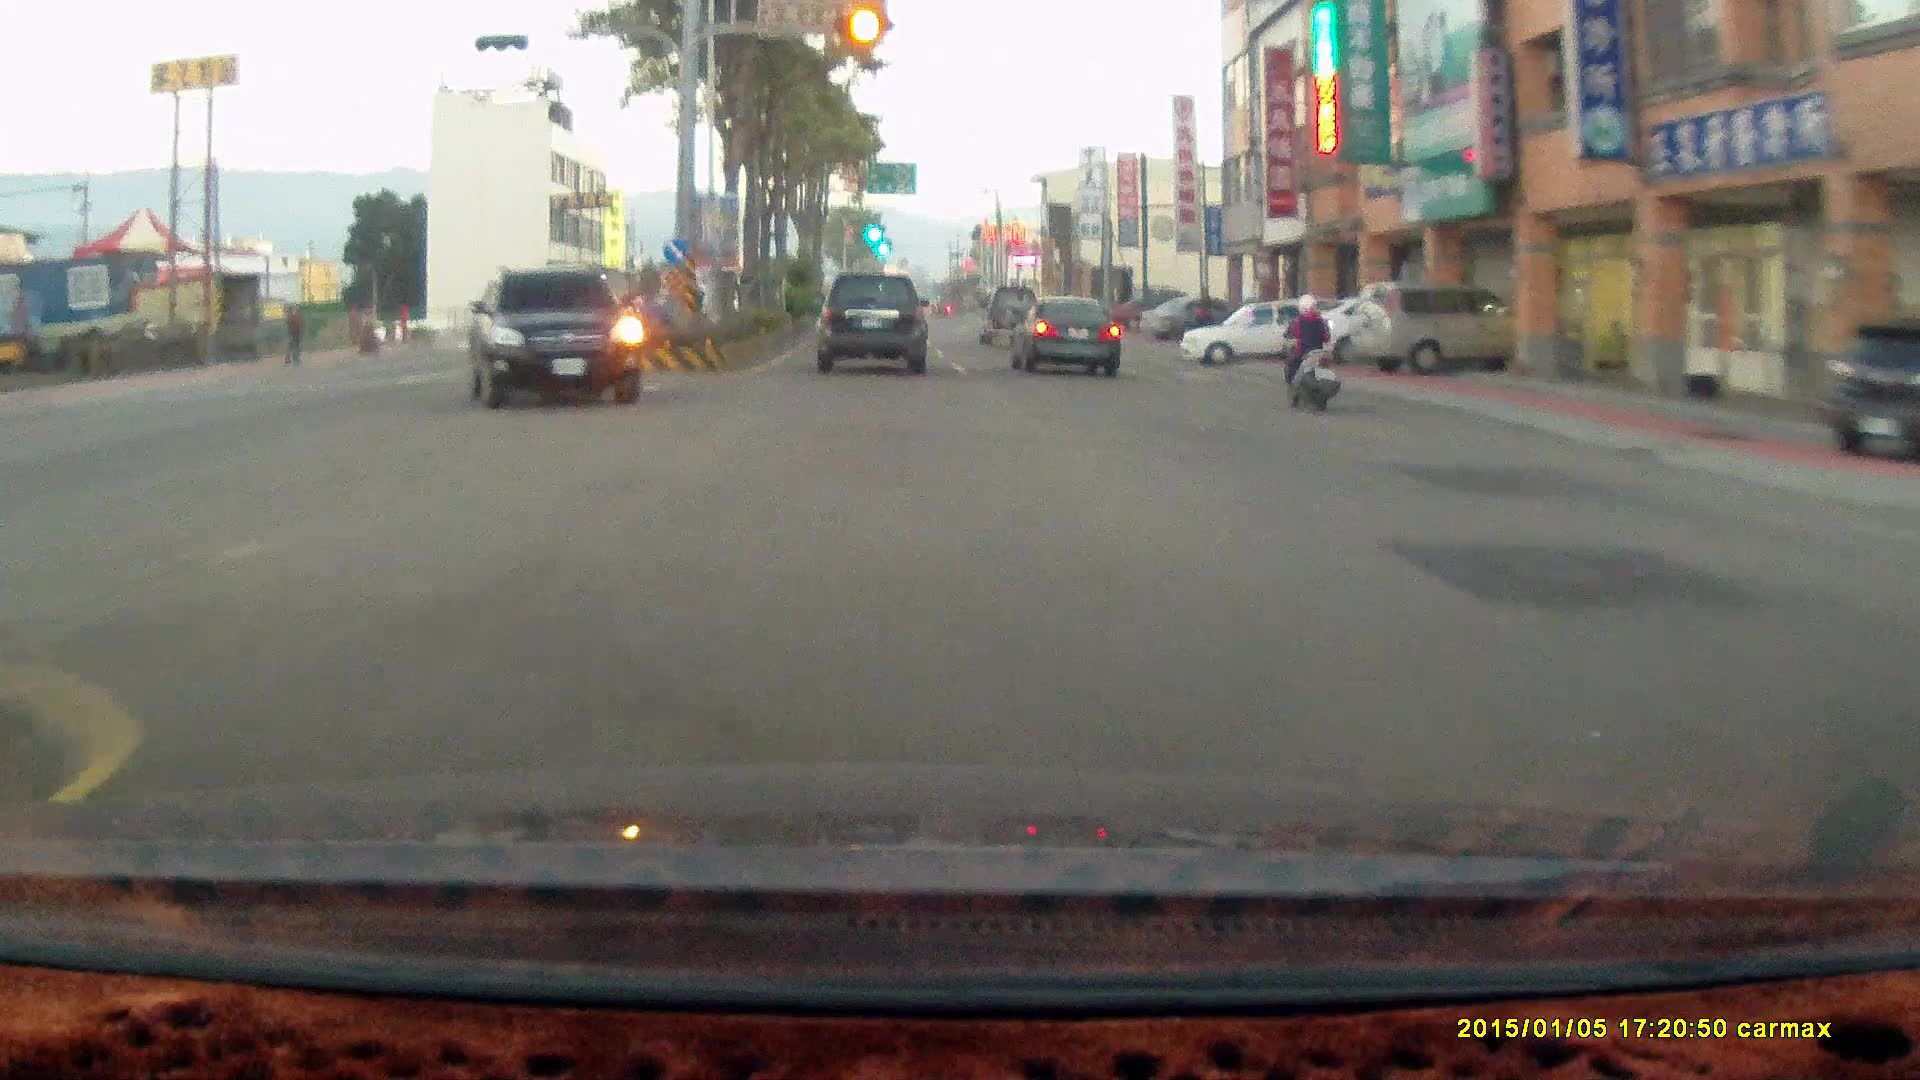pedestrian: (1192, 284, 1218, 343), (279, 304, 305, 363)
rider: (1267, 285, 1351, 417), (1276, 296, 1339, 415)
vehicle: (468, 268, 643, 411), (465, 268, 642, 409), (1345, 283, 1546, 375), (1805, 317, 1919, 466), (1357, 288, 1530, 384), (1811, 318, 1920, 469), (1293, 296, 1468, 373), (823, 273, 934, 378), (816, 272, 926, 376), (1181, 304, 1343, 375), (1179, 302, 1340, 367), (1008, 299, 1130, 380), (1007, 293, 1120, 375), (1141, 296, 1239, 339), (975, 284, 1043, 342), (1112, 295, 1197, 334)
